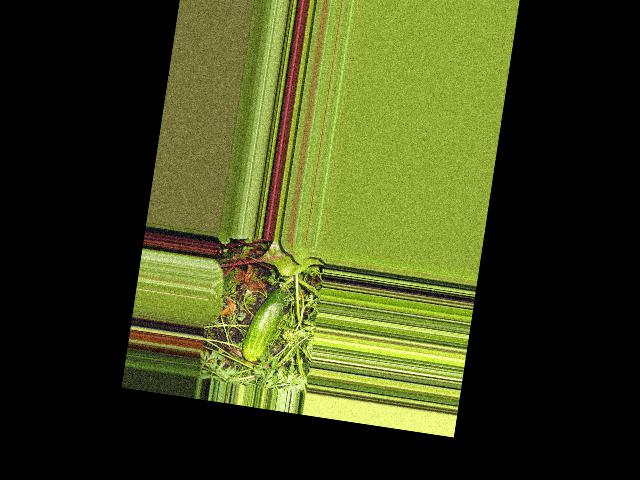cucumber: (241, 283, 289, 364)
